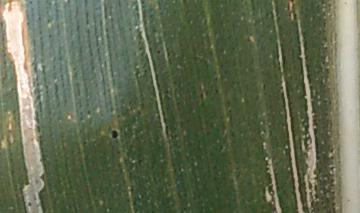tarspot: (108, 126, 121, 141)
